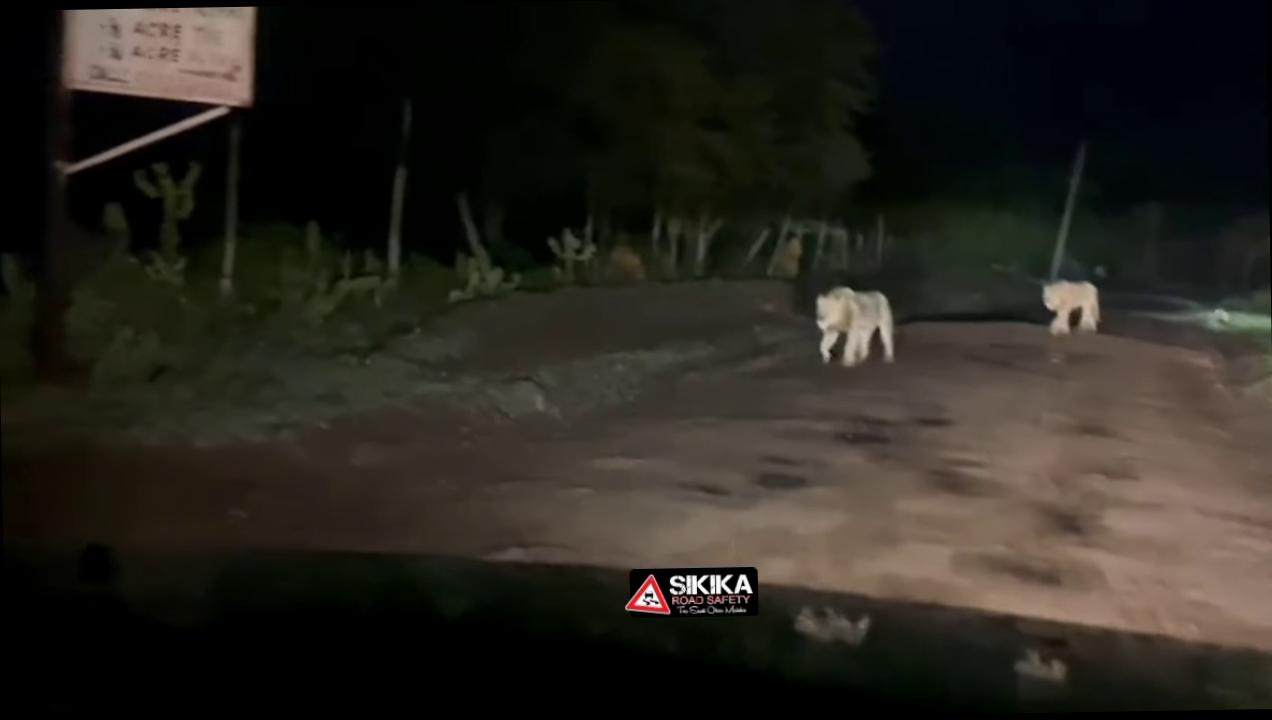lions: (807, 282, 896, 370), (1036, 267, 1106, 351)
